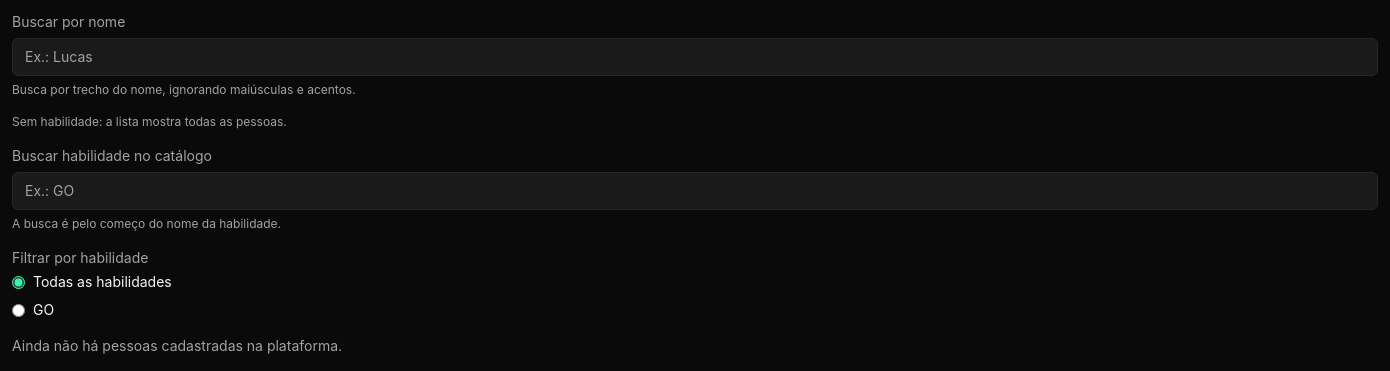
PersonPicker › lista vazia com filtros usa a mensagem de filtros
Expected: the text "Ainda não há pessoas cadastradas na plataforma." is shown, [12, 337, 342, 354]
Step 1. Type "zzz" into the field labelled "Buscar por nome" → coordinates (695, 57), box [12, 38, 1378, 76]
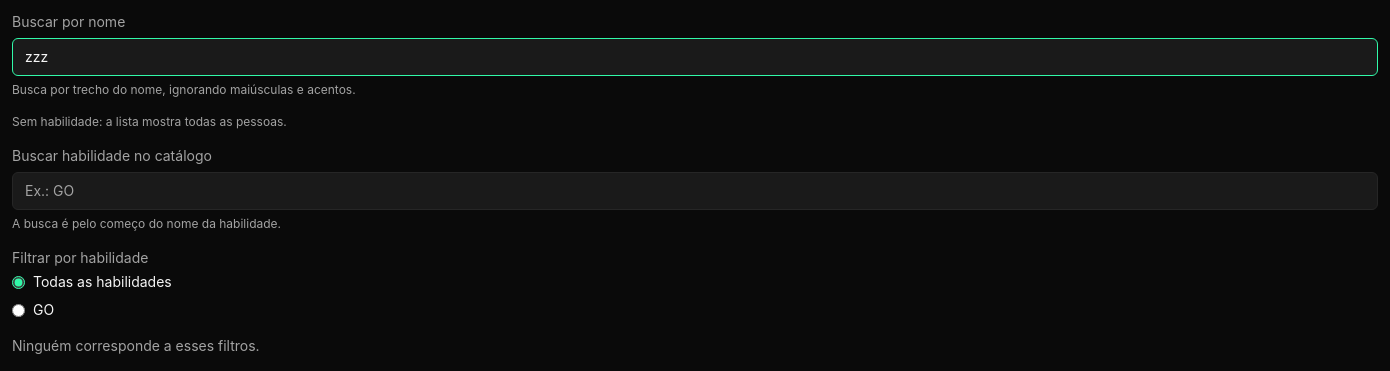
Now the text "Ninguém corresponde a esses filtros." is shown, box [12, 337, 260, 354]
